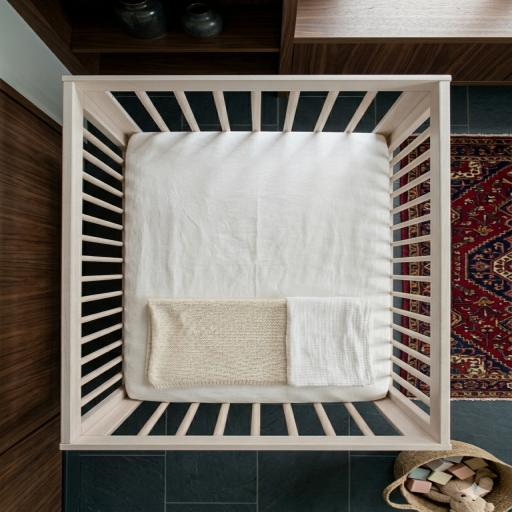crib: (111, 91, 400, 436)
